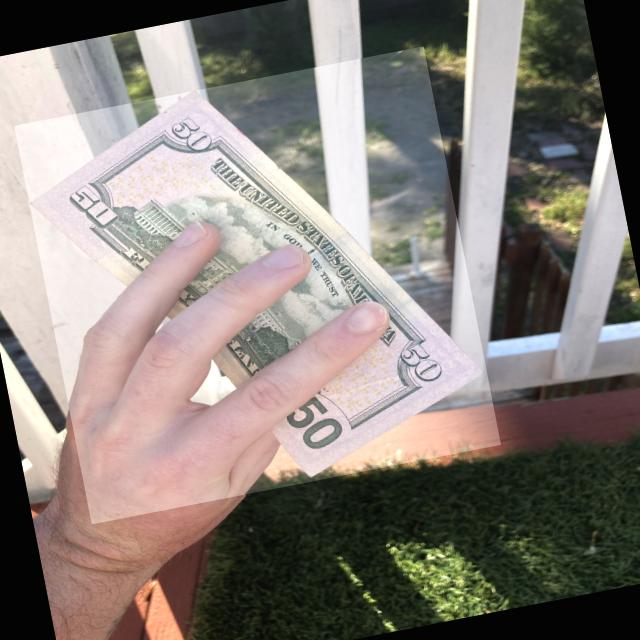fifty: (29, 63, 489, 518)
